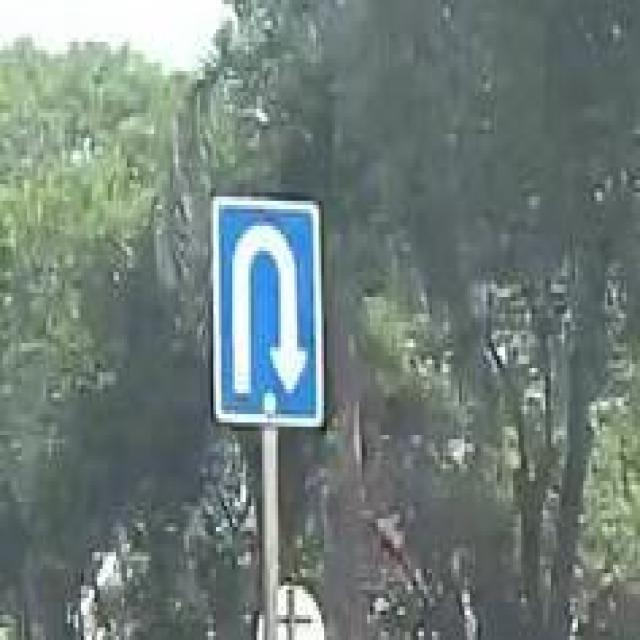traffic sign: (211, 197, 327, 431)
